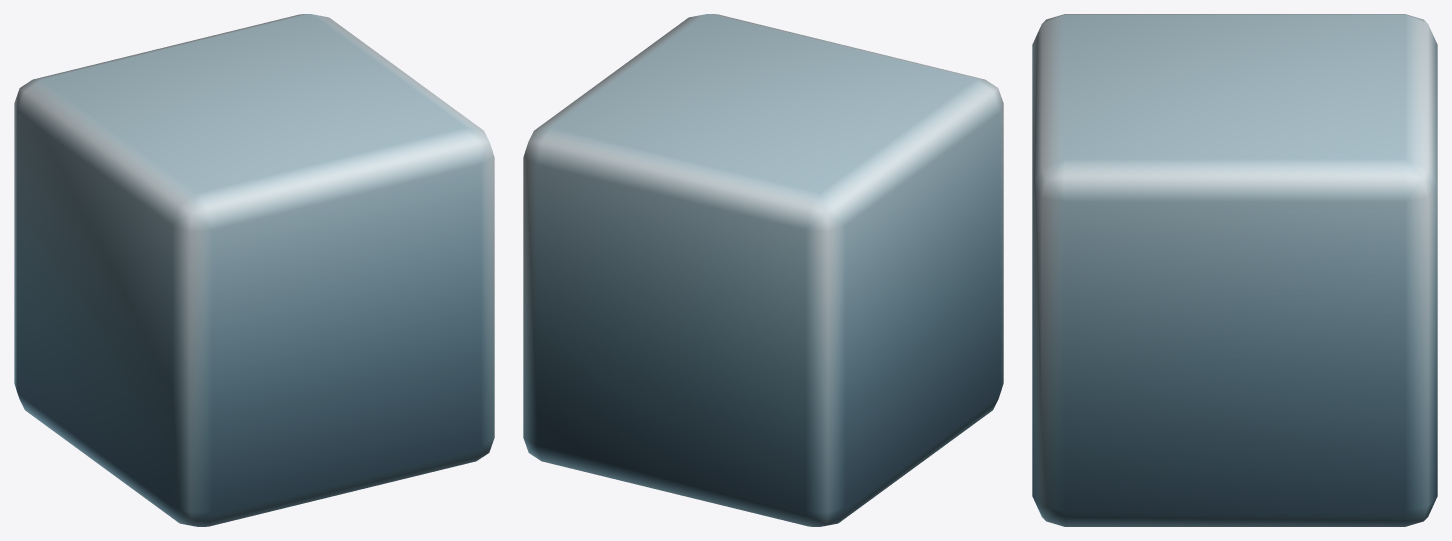
File: cube_silver.obj
3 views of the same model, side by side, from view 1: azimuth 30°, elevation 25°; view 2: azimuth 150°, elevation 25°; view 3: azimuth 270°, elevation 25° (orthographic). The views are drawn at different scales.
Parts seen in each view (by area): view 1: cube_silver; view 2: cube_silver; view 3: cube_silver.
Part boxes in pixels (x1,y1,x2,y2): cube_silver: (14,14,494,526); cube_silver: (523,14,1003,526); cube_silver: (1032,14,1437,526).
Size of the model in its own units: 0.5 by 0.5 by 0.5.
1 material, 1 textured.
